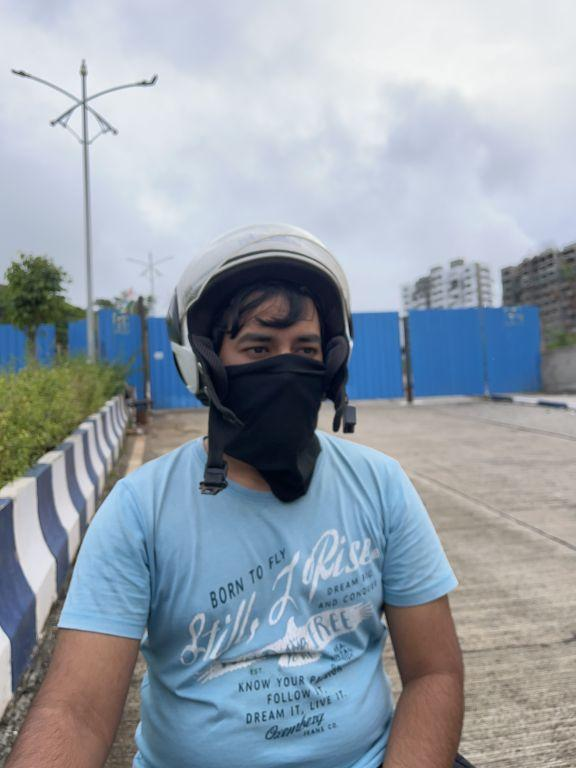helmet: (155, 219, 376, 457)
